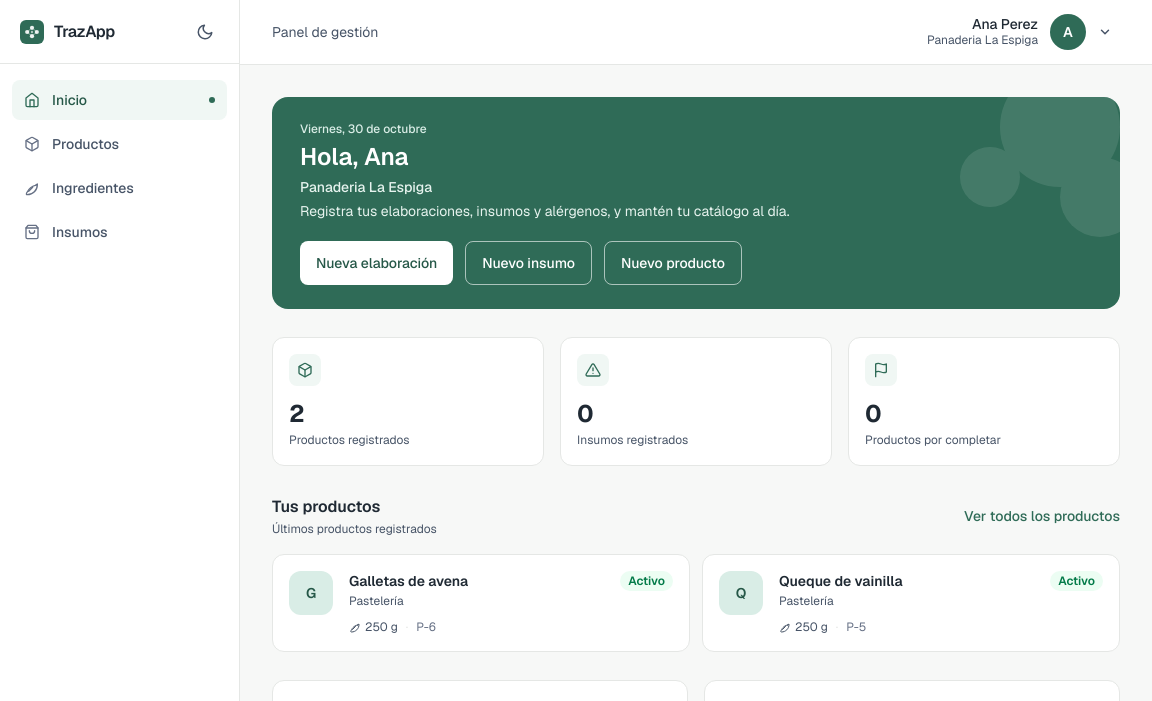
Test: Dashboard: acción «Nueva elaboración» (HT06-07) › con un único producto con formulación lo deja elegido
Click the button "Nueva elaboración": {"x": 377, "y": 263} [300,241,453,285]
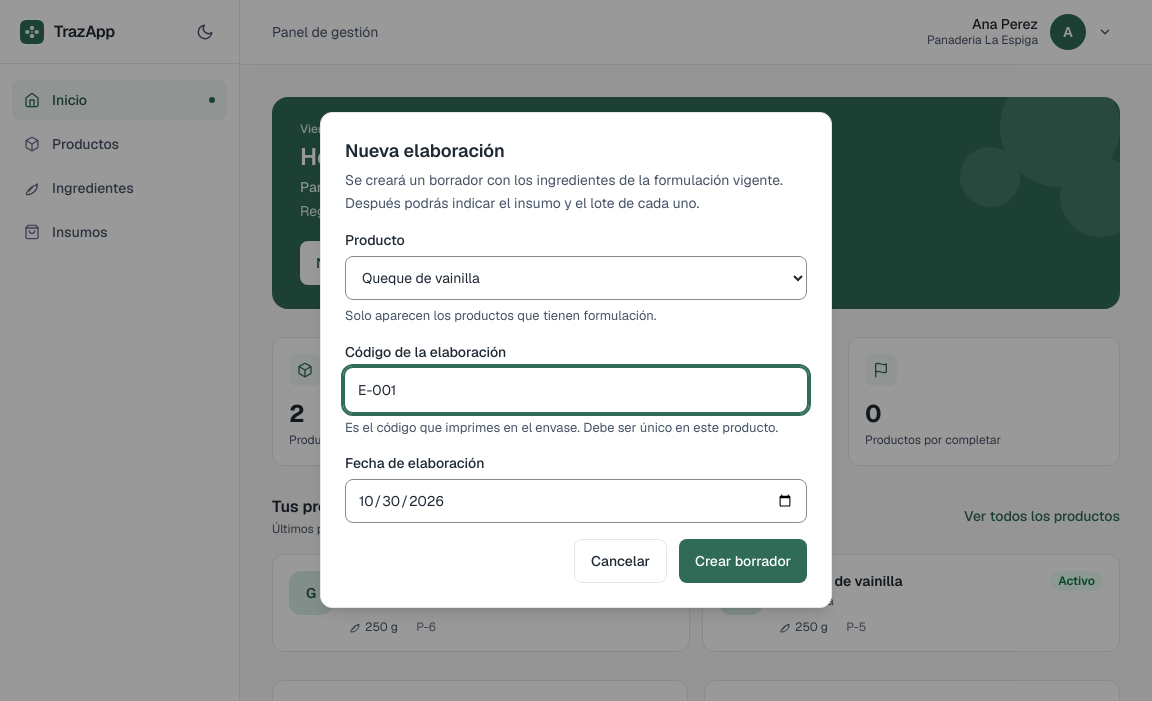
expect the dropdown labelled "Producto" shows "Queque de vainilla": met, box [345,256,807,300]
